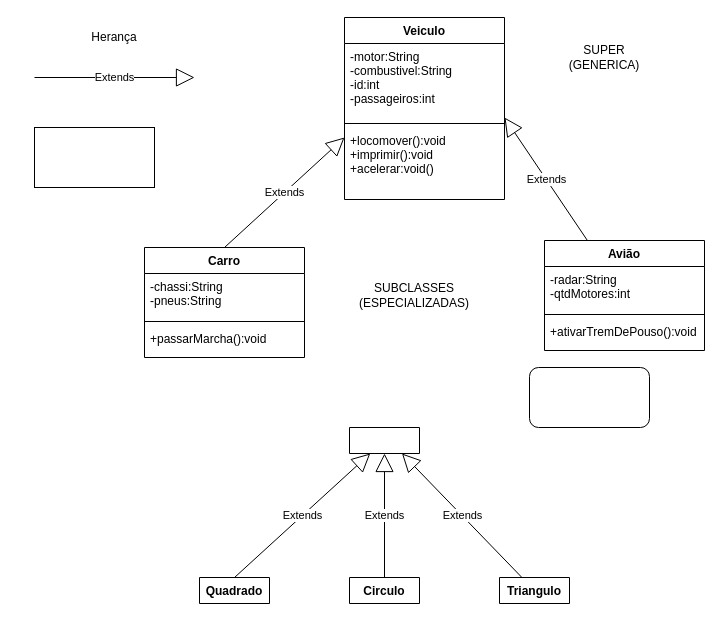
Image size: 722x621. Some labels were removed from this diagram. Here are the shapes that lost their labels. From the top down, the centre of each, then its label:
the point at 94,157: VISIBILIDADE + ==> public - ==> private # ==> protected
the point at 589,397: POLIMORFISMO
the point at 384,440: Forma
